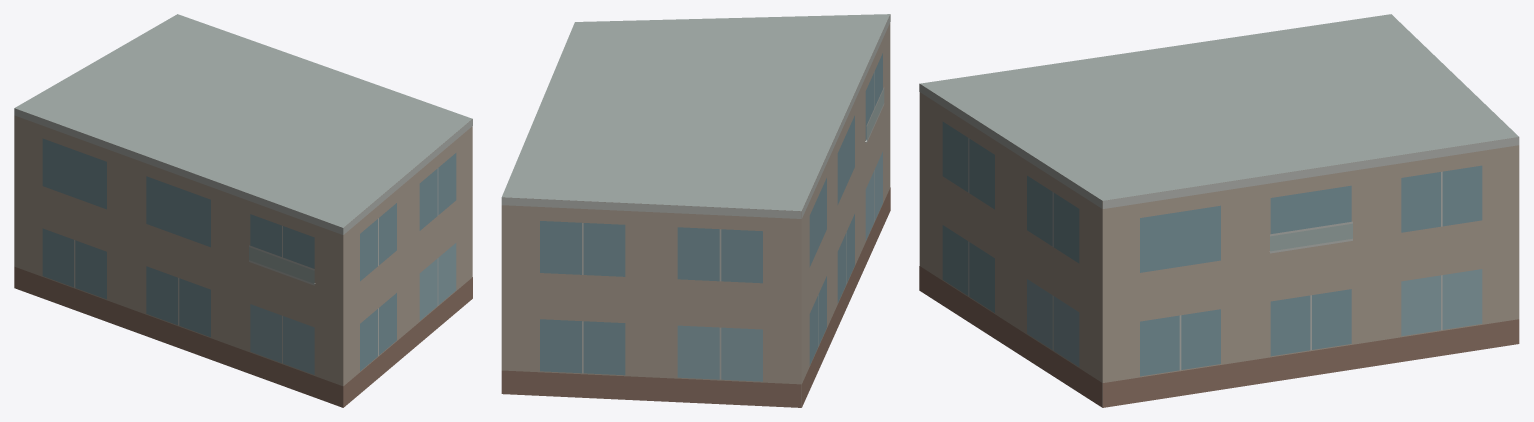
File: survey-upis-32475494.glb
3 renders of one model, left to right at view 1: azimuth 30°, elevation 25°; view 2: azimuth 150°, elevation 25°; view 3: azimuth 270°, elevation 25°, orthographic. The views are drawn at different scales.
Parts seen in each view (by area): view 1: survey-upis-32475494.tmp; view 2: survey-upis-32475494.tmp; view 3: survey-upis-32475494.tmp.
Part boxes in pixels (box(x1,y1,x2,y2)): survey-upis-32475494.tmp: box(14, 14, 472, 407); survey-upis-32475494.tmp: box(501, 14, 890, 407); survey-upis-32475494.tmp: box(919, 14, 1519, 407).
Size of the model in its own units: 11.82 by 6.1 by 16.03.
